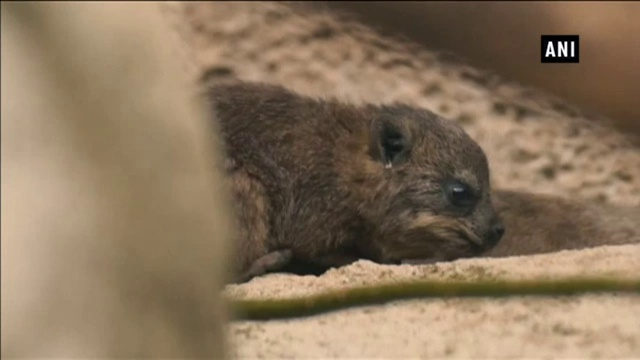Rock Hyrex: (199, 78, 505, 283)
